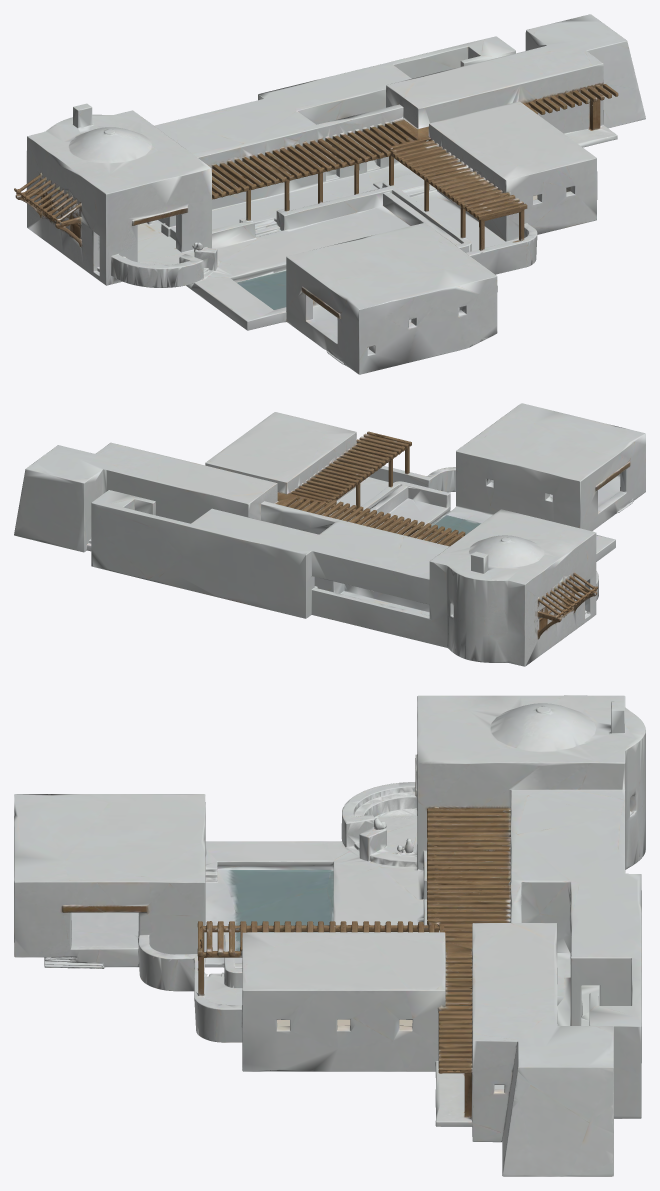
Rendered from villa-S.glb.
3 views of the same model, one above another, from view 1: azimuth 30°, elevation 25°; view 2: azimuth 150°, elevation 25°; view 3: azimuth 270°, elevation 25° (orthographic). The views are drawn at different scales.
Bounding box in the file's own units: 1.9 × 0.3412 × 1.33.
Materials: 1 (1 with a texture image).
